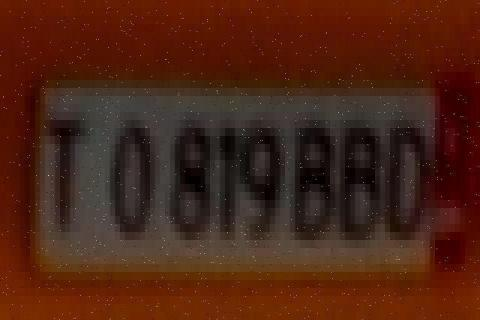LicensePlate: (17, 61, 472, 299)
